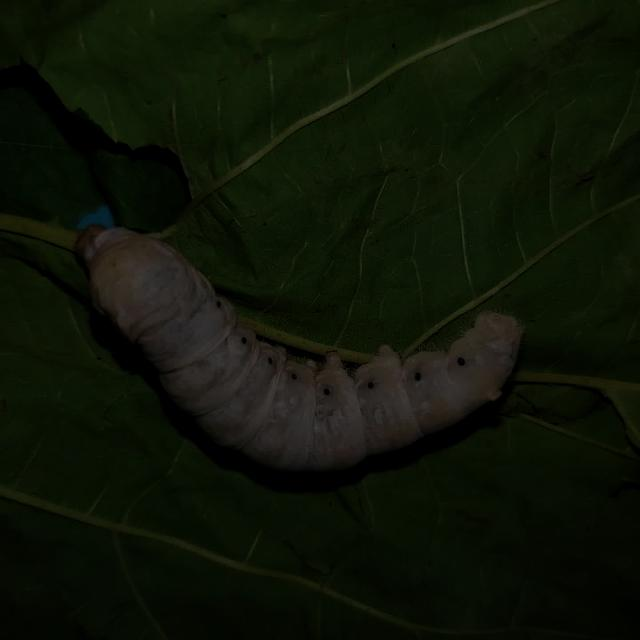Grasserie: (55, 178, 545, 502)
